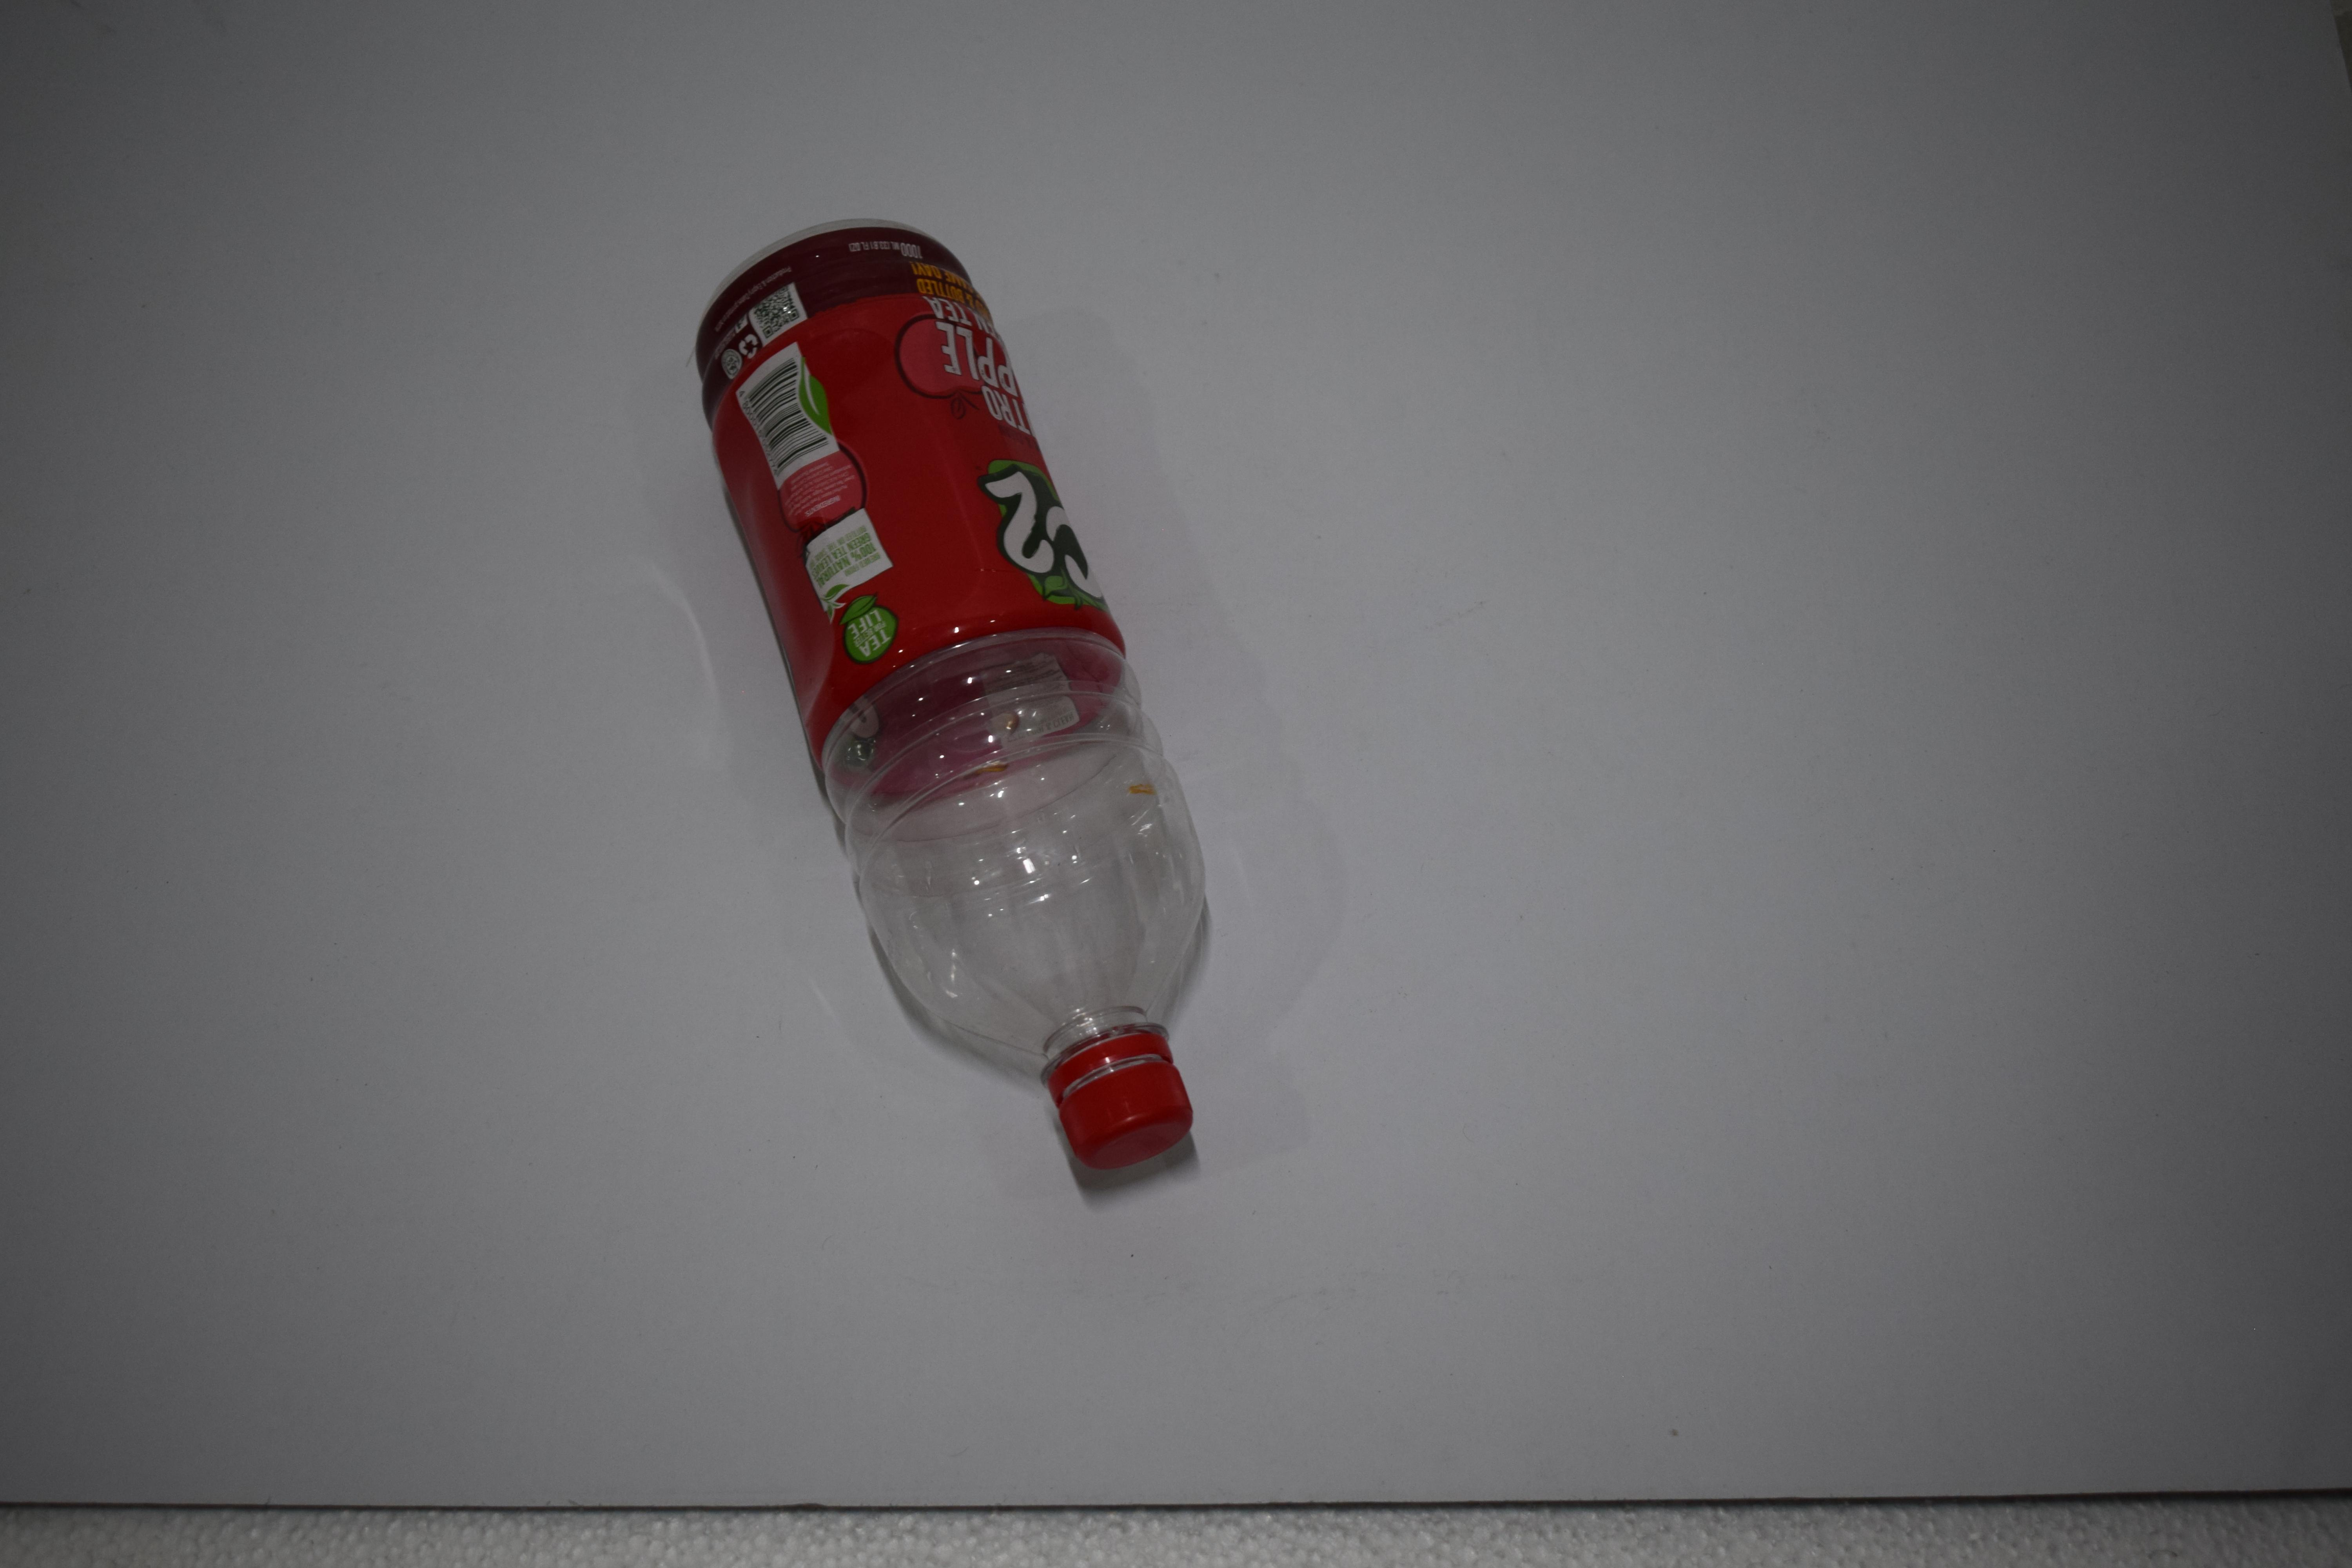bottle: (686, 212, 1211, 1169)
